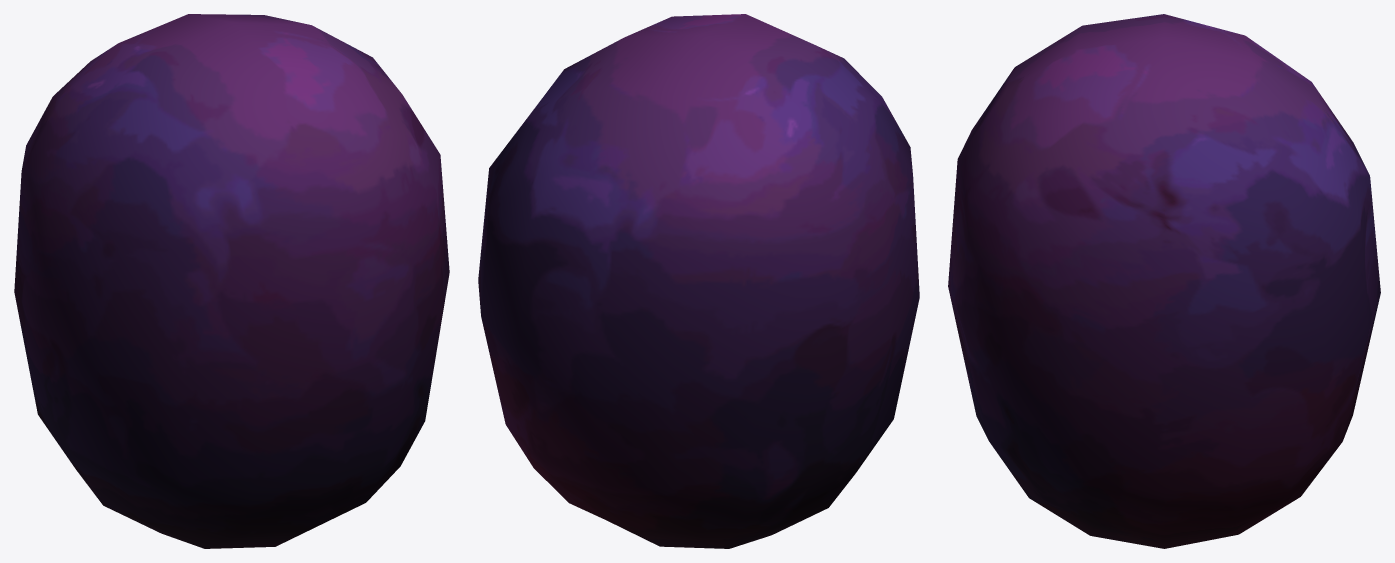
The model's file is SM_Grape_B.fbx.
3 views of the same model, side by side, from view 1: azimuth 30°, elevation 25°; view 2: azimuth 150°, elevation 25°; view 3: azimuth 270°, elevation 25° (orthographic). The views are drawn at different scales.
Parts seen in each view (by area): view 1: SM_Grape_B; view 2: SM_Grape_B; view 3: SM_Grape_B.
Boxes of the visible parts, bbox=[...] form: SM_Grape_B: bbox=[14, 14, 449, 548]; SM_Grape_B: bbox=[478, 14, 919, 548]; SM_Grape_B: bbox=[948, 14, 1380, 548].
Bounding box in the file's own units: 3.34 × 4.22 × 3.36.
